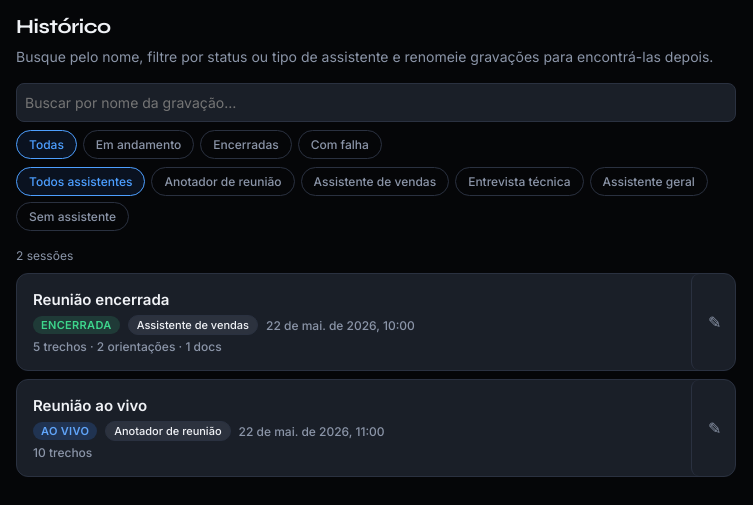
Scenario: SessionHistoryView › renames a session from the card
The image size is (753, 505).
Click the 1st button with test id "history-rename-btn" at [713, 322], box x1=691 y1=274 x2=735 y2=370
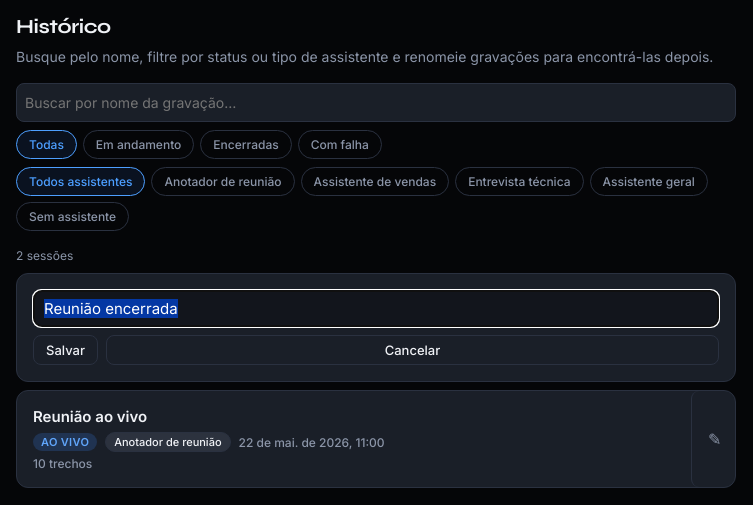
Replace the text in the field with test id "history-rename-input" with "Demo com cliente" at [376, 308], box x1=33 y1=290 x2=719 y2=327
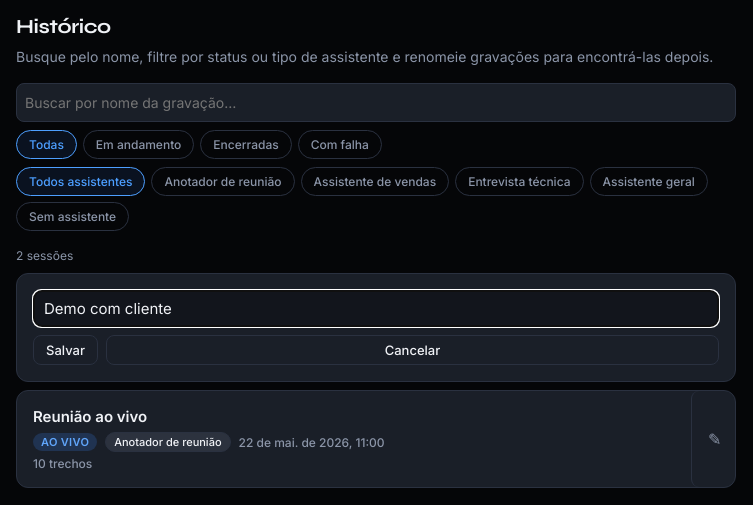
Click the button with test id "history-rename-save" at [66, 350], box x1=33 y1=335 x2=98 y2=365
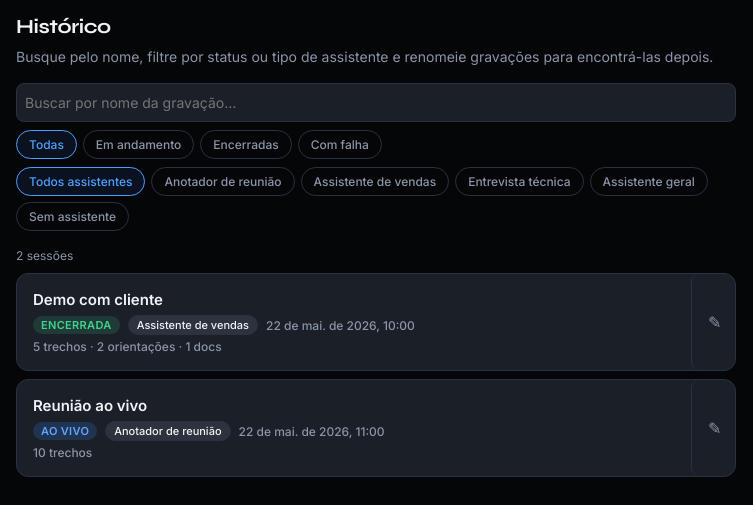
Result: the text "Demo com cliente" is shown at x1=33 y1=290 x2=163 y2=309
